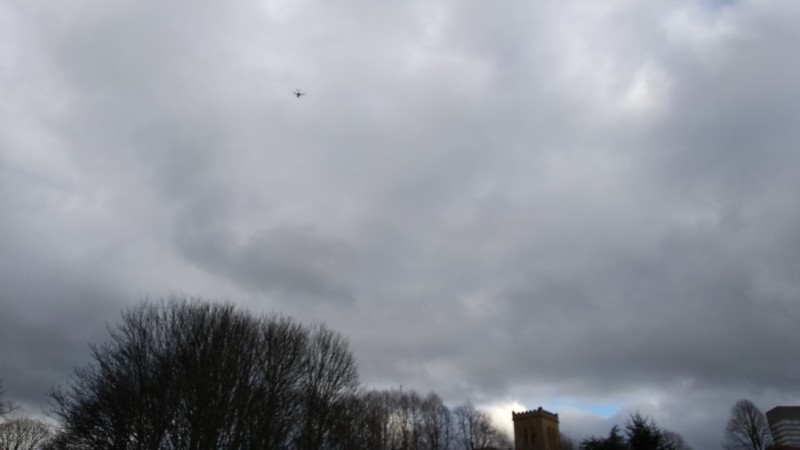drone: (294, 90, 305, 98)
